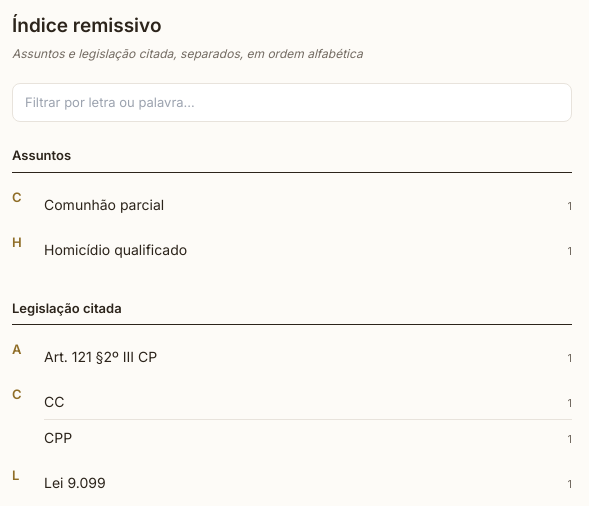
IndiceRemissivo › filtra tags pelo campo de busca
The image size is (589, 506).
In the field with placeholder "Filtrar por letra ou palavra…": point(292, 102) [12,82,572,122], type "homic"
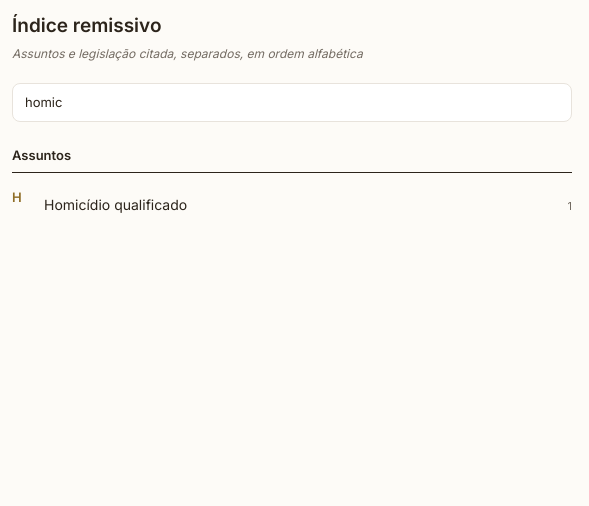
Expected: the text "Homicídio qualificado" is shown, [44,194,187,214]
Result: the text "CPP" is gone
